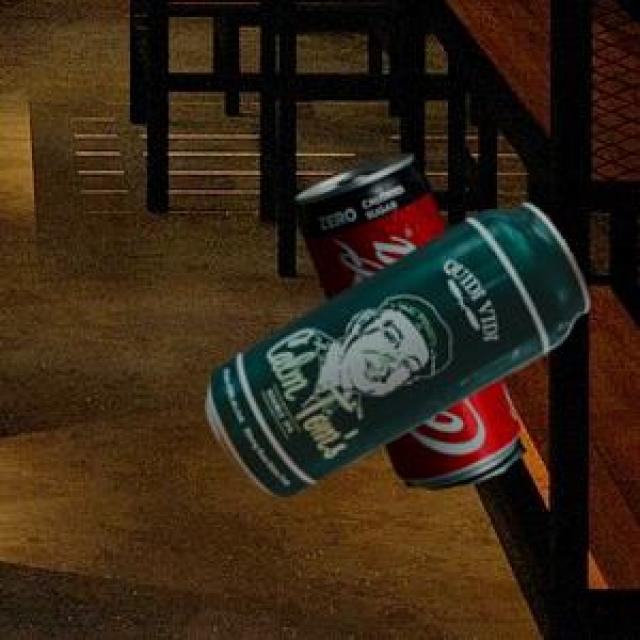logam: (204, 199, 586, 494), (293, 150, 522, 485)
